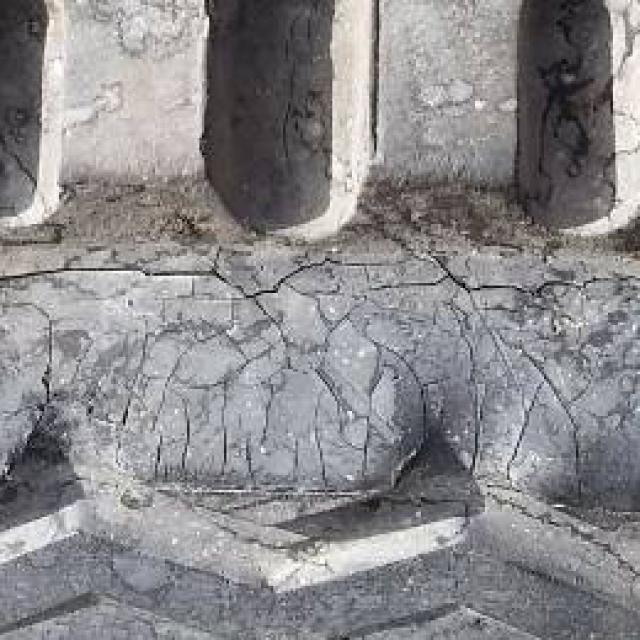Cracks: (0, 184, 638, 598), (256, 0, 333, 168), (356, 0, 408, 171), (0, 99, 60, 216)
